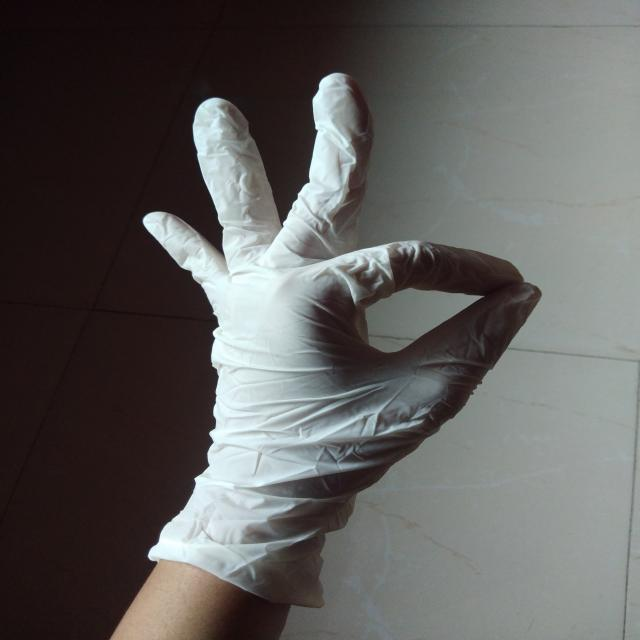glove_hand: (132, 67, 544, 617)
